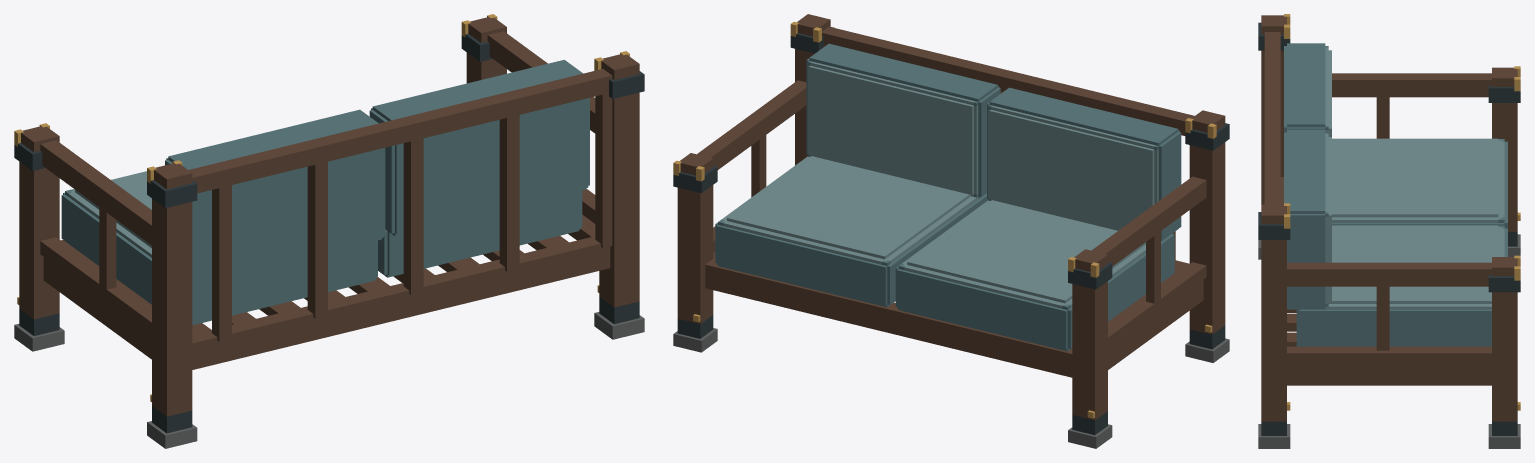
The model's file is visual-far.glb.
The picture shows the model from 3 angles, left to right: view 1: azimuth 30°, elevation 25°; view 2: azimuth 150°, elevation 25°; view 3: azimuth 270°, elevation 25°; orthographic projection. The views are drawn at different scales.
Parts seen in each view (by area): view 1: 沙发框架, 沙发软垫靠背; view 2: 沙发软垫靠背, 沙发框架; view 3: 沙发软垫靠背, 沙发框架.
Boxes of the visible parts, x1,y1,x2,y2 form: 沙发框架: (14,14,644,448); 沙发软垫靠背: (61,59,589,325); 沙发软垫靠背: (715,43,1181,351); 沙发框架: (673,14,1229,448); 沙发软垫靠背: (1284,43,1507,346); 沙发框架: (1258,14,1520,448).
Bounding box in the file's own units: 1.5 × 0.8 × 0.82.
Materials: 6 (6 with a texture image).
